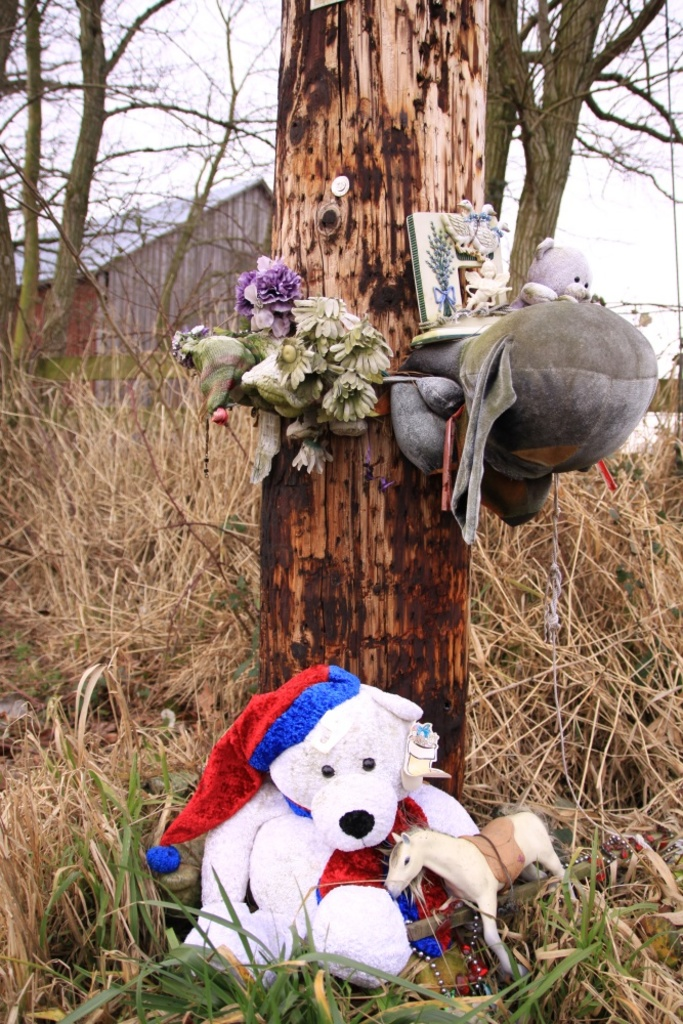Tree: (250, 0, 504, 822), (0, 0, 283, 368), (488, 0, 683, 300)
